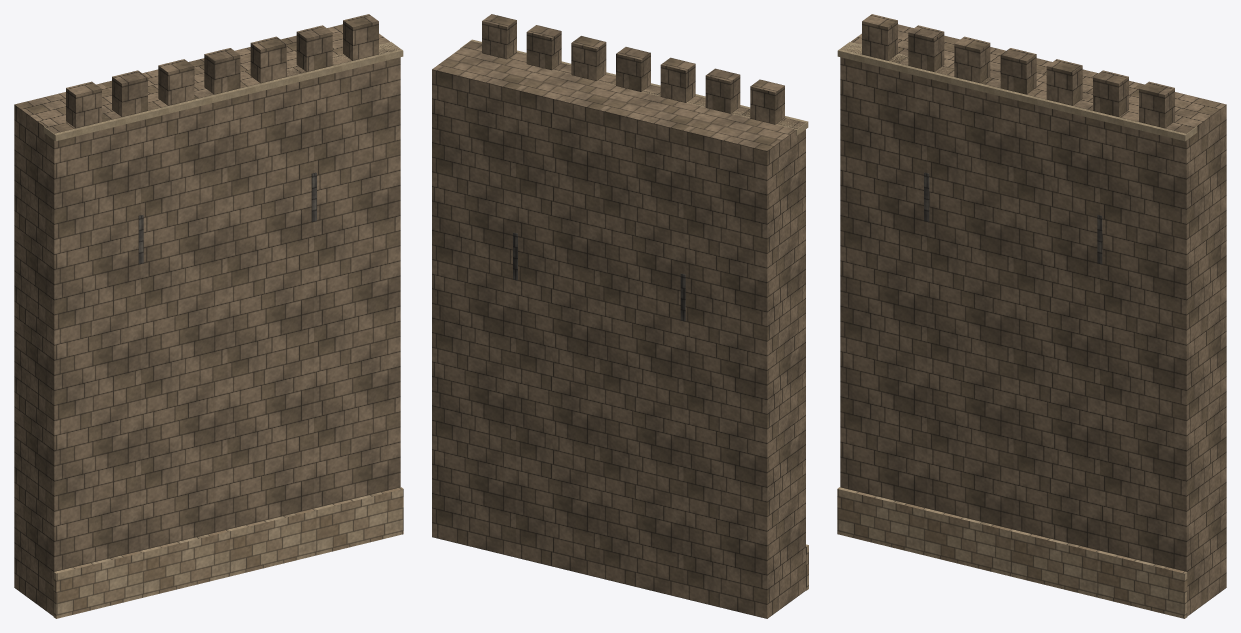
File: fortress_wall.gltf
3 views of the same model, side by side, from view 1: azimuth 30°, elevation 25°; view 2: azimuth 150°, elevation 25°; view 3: azimuth 330°, elevation 25° (orthographic). The views are drawn at different scales.
Parts seen in each view (by area): view 1: fortress_wall_mesh; view 2: fortress_wall_mesh; view 3: fortress_wall_mesh.
Part boxes in pixels (<box>): fortress_wall_mesh: <box>14,14,403,618</box>; fortress_wall_mesh: <box>432,14,808,618</box>; fortress_wall_mesh: <box>837,14,1226,618</box>.
Size of what is drawn, in the model's own units: 12.04 by 17.1 by 2.58.
4 materials, 4 textured.
